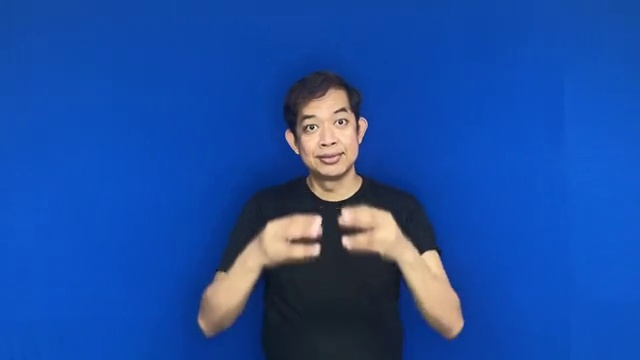egg: (241, 196, 415, 269)
